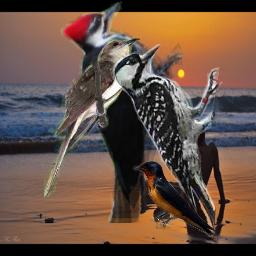Cuckoo: (44, 37, 140, 198)
Swallow: (133, 161, 215, 237)
Woodpecker: (58, 1, 183, 223), (111, 44, 223, 244)
